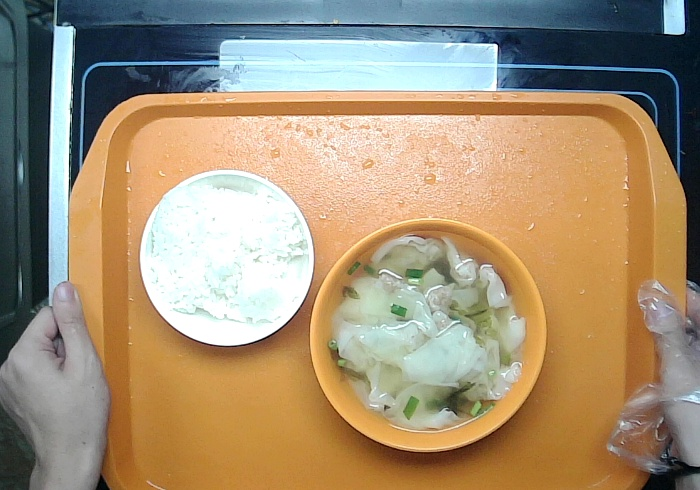NLDX-Fan_Wan: (133, 162, 318, 359)
NLDX-Hun_Tun_Wan: (307, 209, 552, 466)
